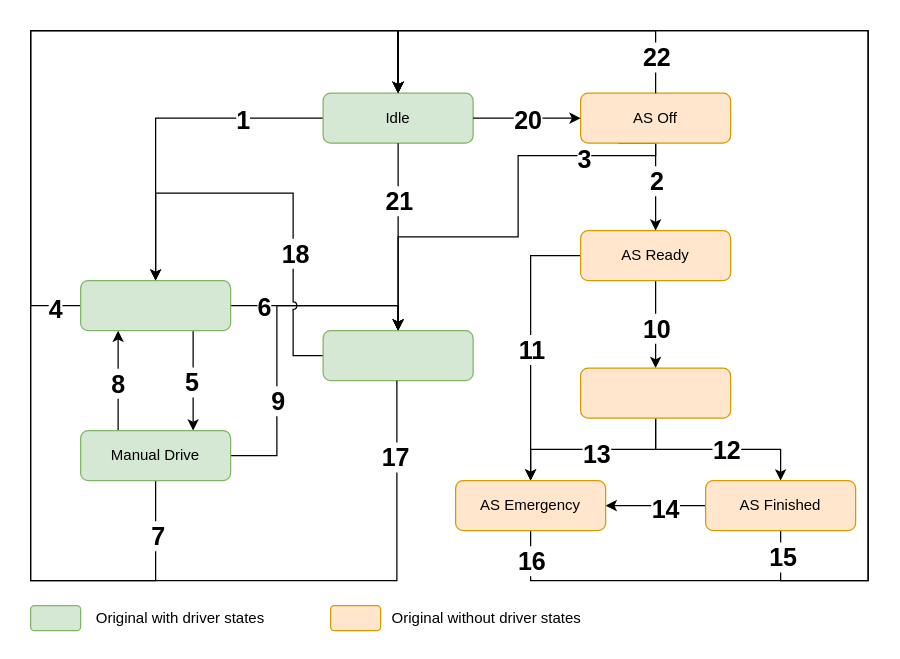
Some shapes in this 900 by 659 pixel diagram are drawn without their labels. Each missing label, with the centre of its shape:
"AS Driving" goes at point (655, 392).
"Error" goes at point (397, 355).
"Manual Ready" goes at point (155, 305).
